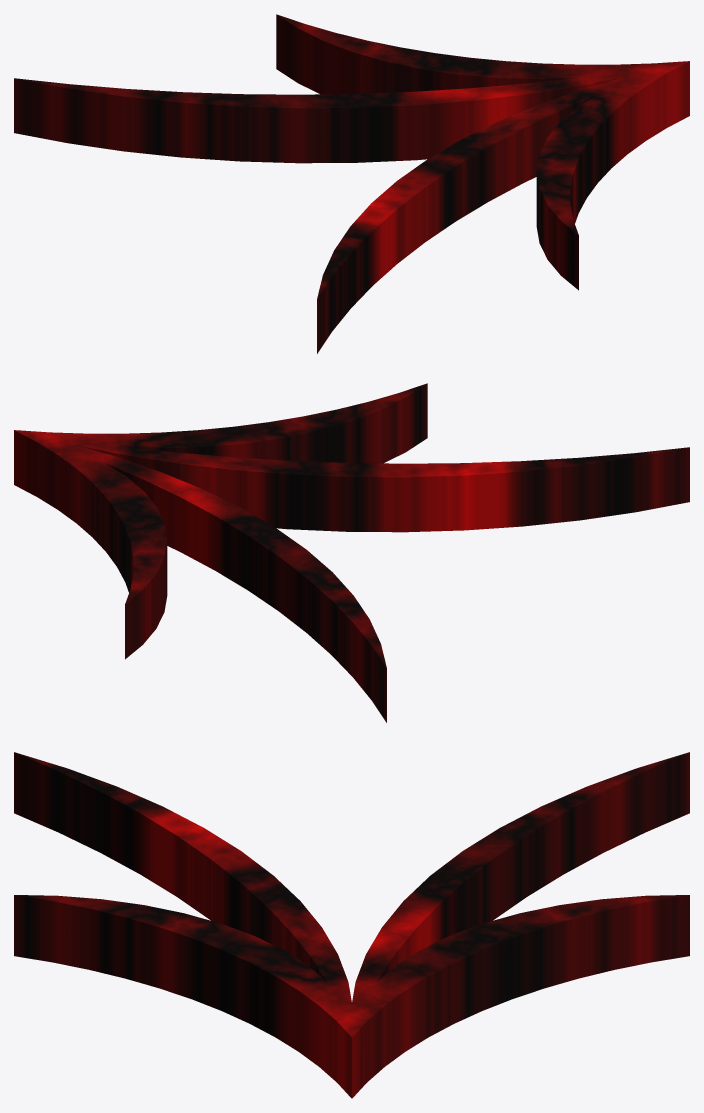
The model's file is arrow4.obj.
3 renders of one model, top to bottom at view 1: azimuth 30°, elevation 25°; view 2: azimuth 150°, elevation 25°; view 3: azimuth 270°, elevation 25°, orthographic. The views are drawn at different scales.
Visible parts, largest first — view 1: Model; view 2: Model; view 3: Model.
Boxes of the visible parts, bbox=[...] form: Model: bbox=[14, 14, 689, 353]; Model: bbox=[14, 383, 689, 722]; Model: bbox=[14, 752, 689, 1098].
Bounding box in the file's own units: 1 × 0.1 × 1.
